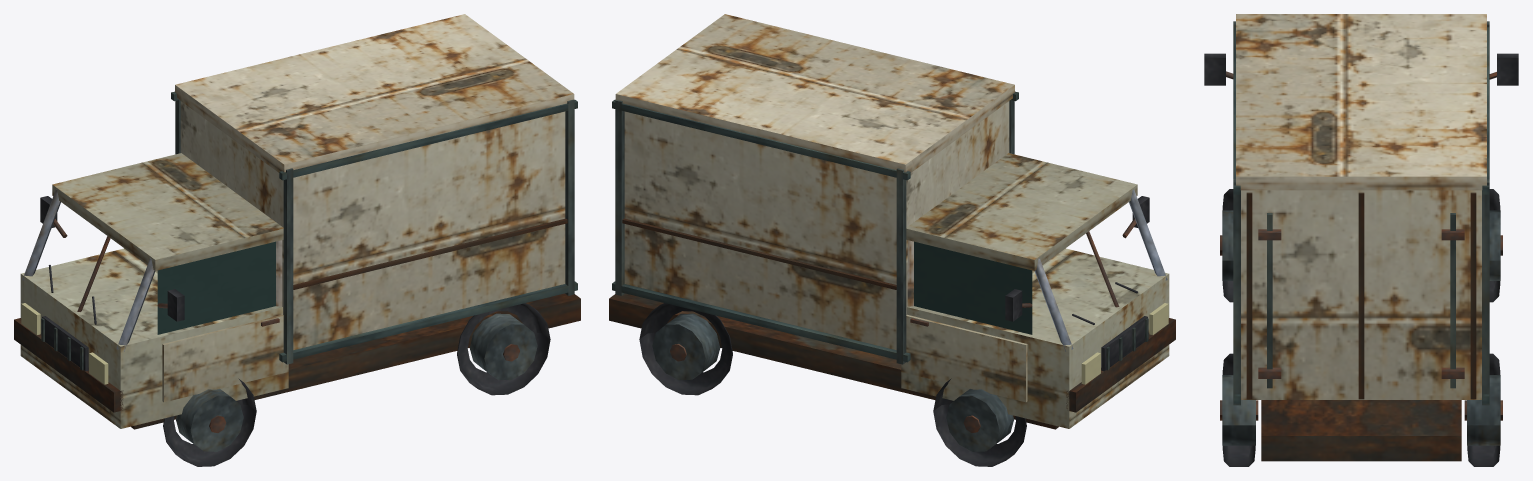
The model's file is Truck_Abandoned.glb.
3 renders of one model, left to right at view 1: azimuth 30°, elevation 25°; view 2: azimuth 150°, elevation 25°; view 3: azimuth 270°, elevation 25°, orthographic. The views are drawn at different scales.
Visible parts, largest first — view 1: Truck_Abandoned; view 2: Truck_Abandoned; view 3: Truck_Abandoned.
Boxes of the visible parts, x1,y1,x2,y2 form: Truck_Abandoned: (14,14,580,466); Truck_Abandoned: (609,14,1175,466); Truck_Abandoned: (1204,14,1518,466).
Bounding box in the file's own units: 4.95 × 2.8 × 2.46.
1 material, 1 textured.
